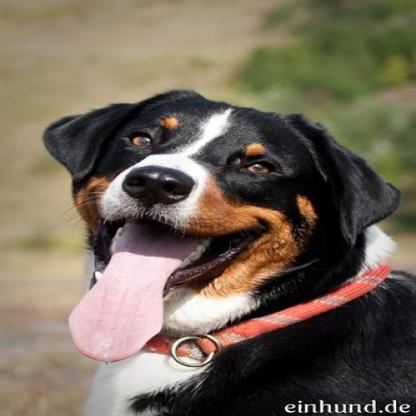Appenzeller: (37, 85, 412, 413)
